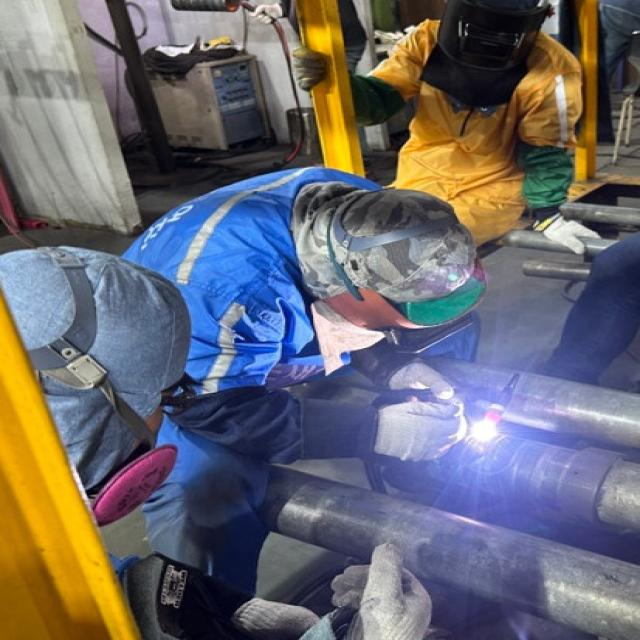welding: (469, 418, 499, 445)
